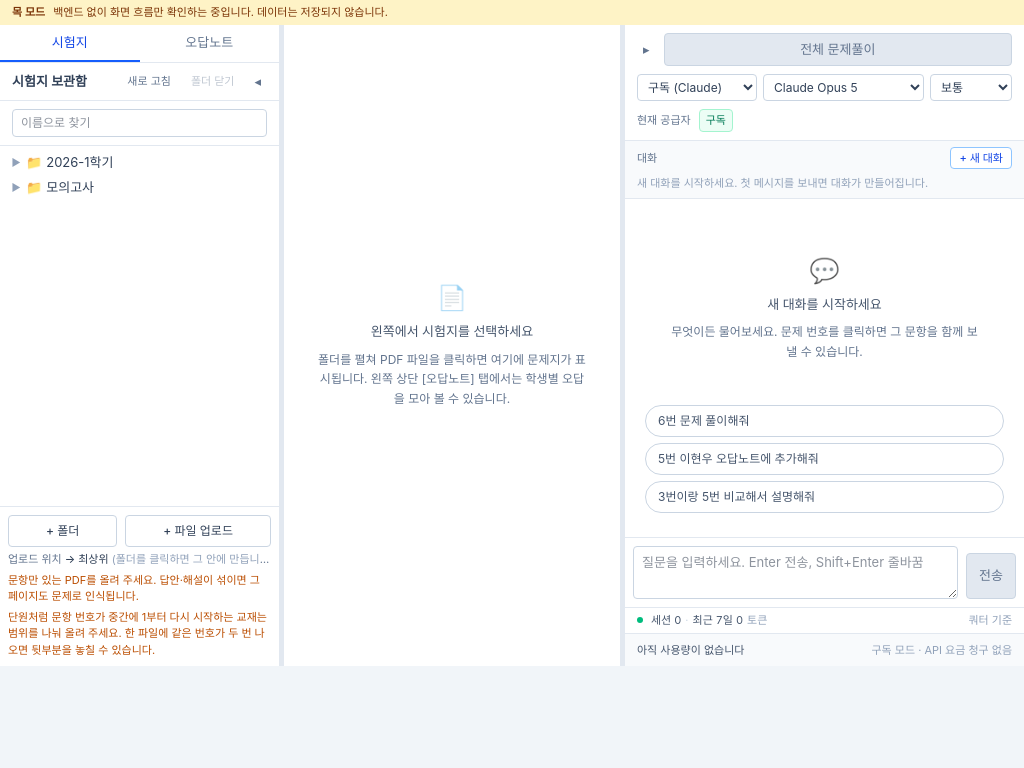
it: 좌측 2섹션 (시험지 / 오답노트) › 오답노트 섹션에서 새 노트를 만들면 트리에 나타난다
The width and height of the screenshot is (1024, 768).
Check: the text "2026-1학기" is shown, box [46,154,114,170]
Click the tab "오답노트" at (209, 43), box [140,24,279,62]
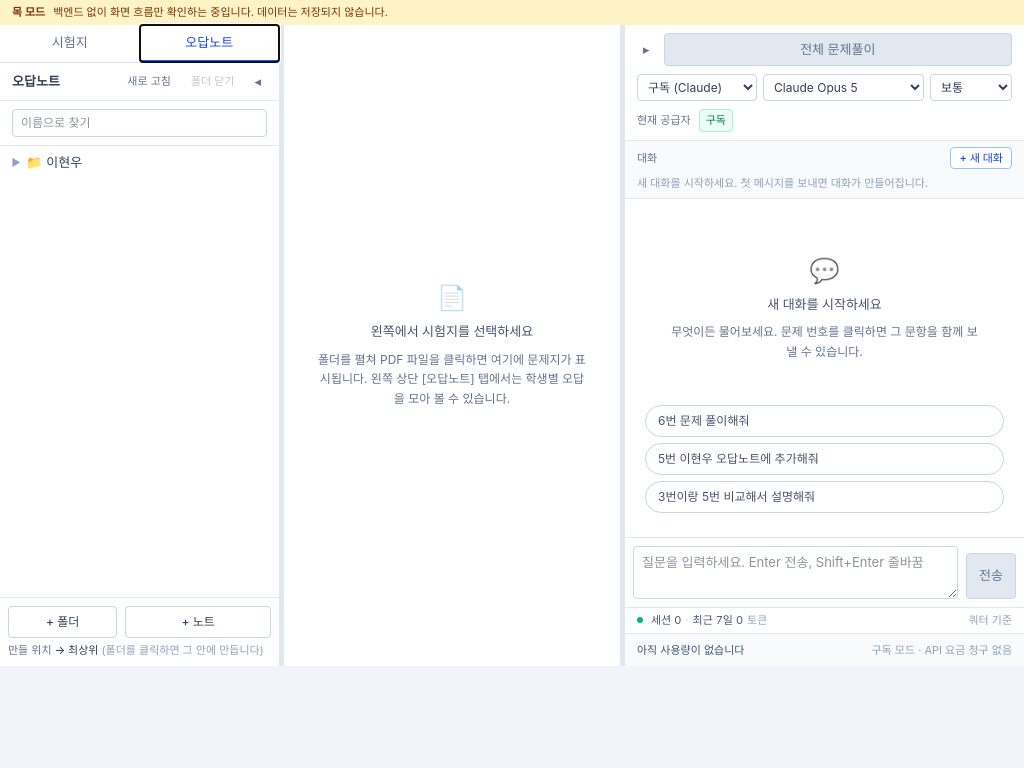
Check: the list item "▶ 📁 이현우" is shown, box [11,154,82,170]
Click the button "+ 노트" at (198, 622), box [125,606,271,638]
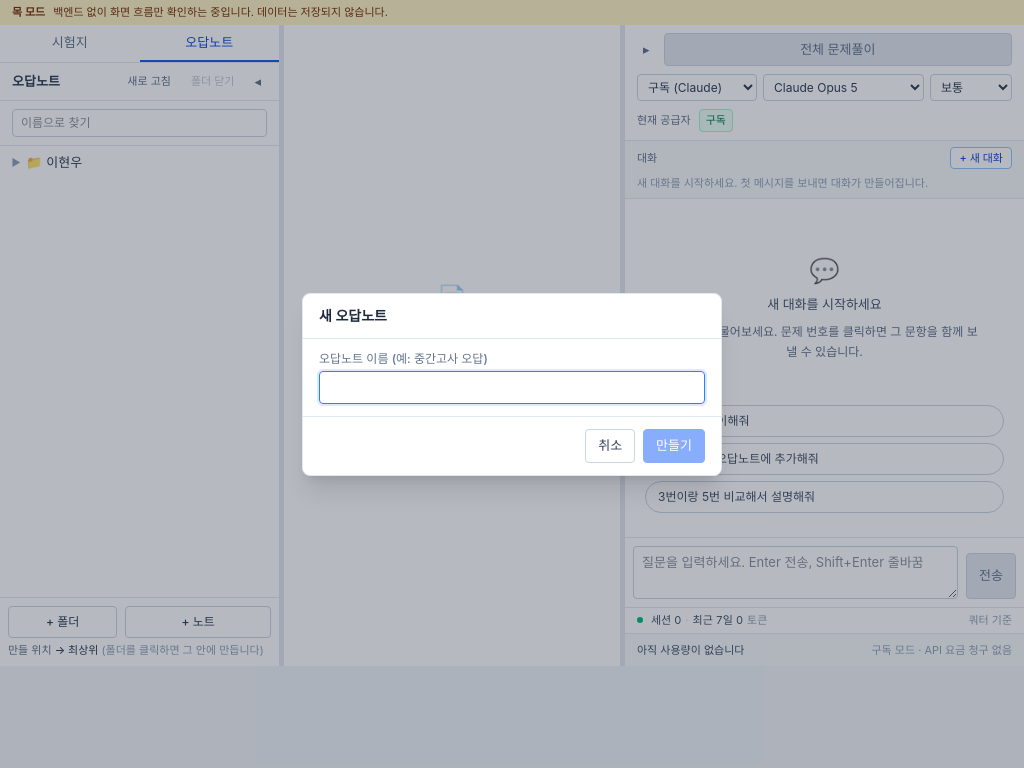
Type "단원평가 오답" into the field at (512, 387), box [319,370,705,404]
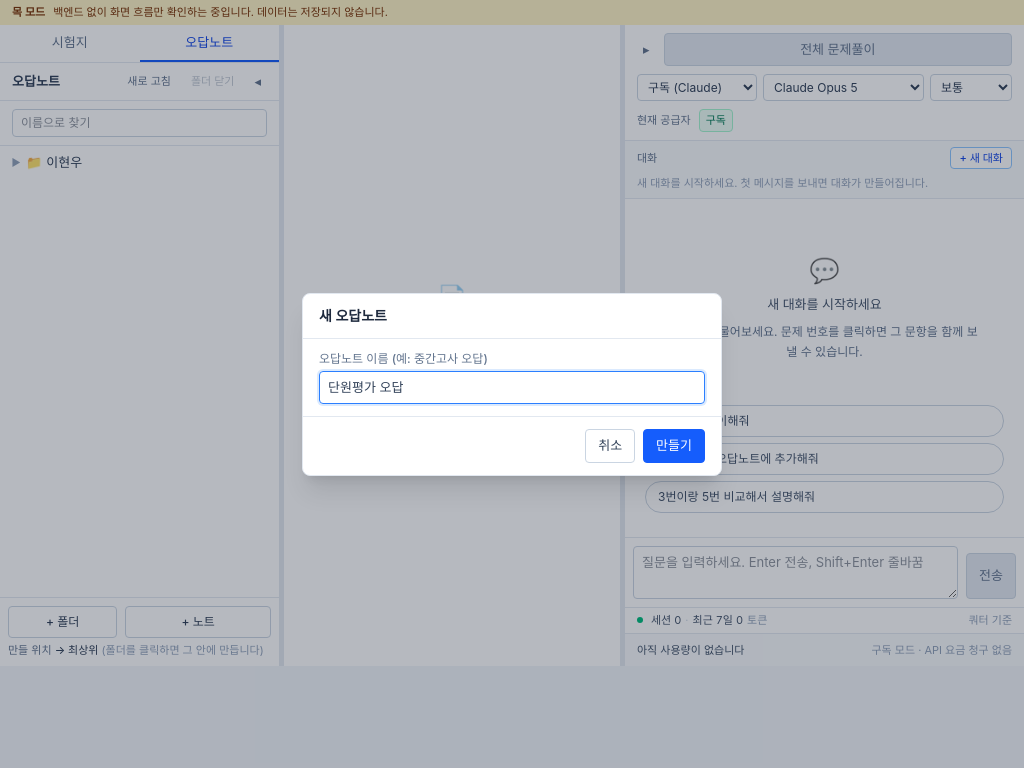
Click the button "만들기" at (674, 446), box [643,429,705,462]
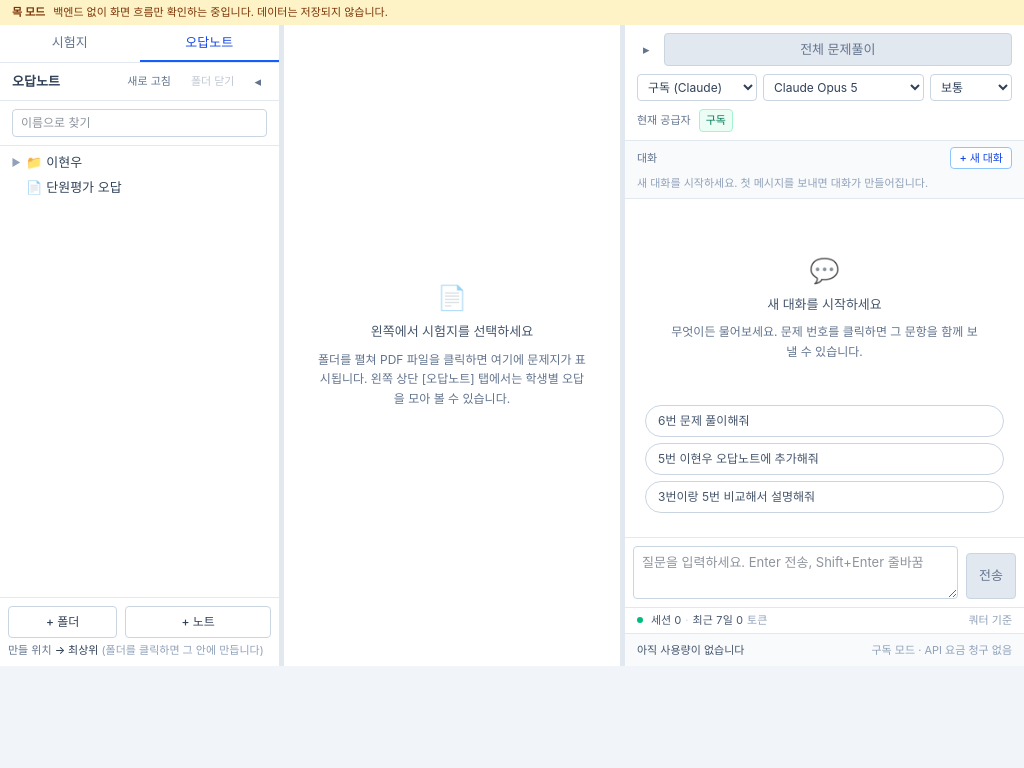
Check: the list item "📄 단원평가 오답" is shown, box [26,179,122,195]
